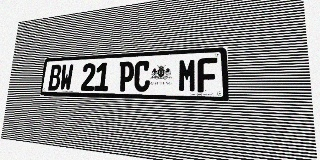1: (94, 62, 110, 91)
2: (81, 63, 96, 91)
B: (48, 64, 62, 91)
C: (134, 60, 151, 92)
F: (197, 57, 218, 93)
M: (178, 58, 197, 92)
P: (118, 61, 135, 91)
W: (59, 64, 74, 91)
